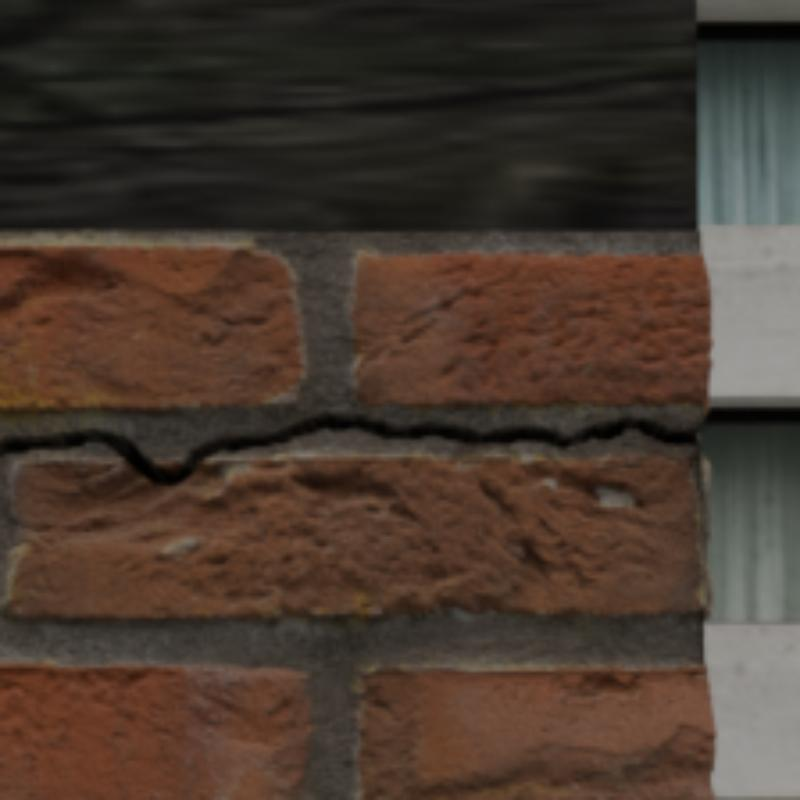pothole: (0, 414, 696, 482)
